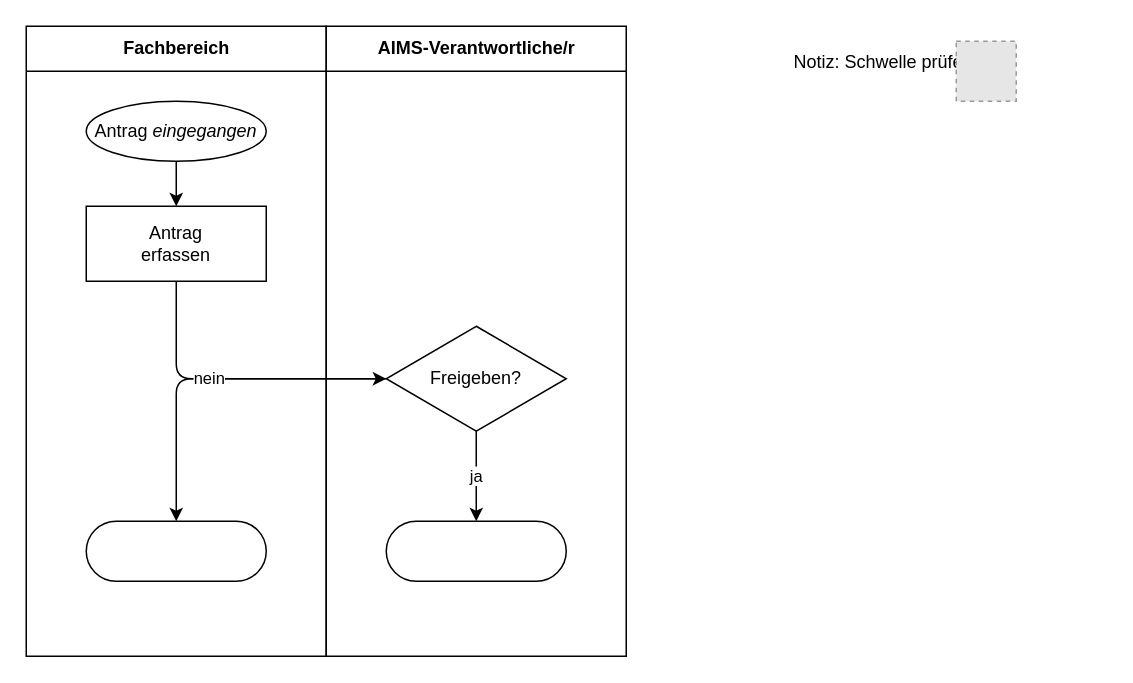
Image size: 1133x683. Some labels were removed from this diagram. Grey dashed boxes stand in for pictures. The box of each missing label's shape, as (x1, y1, x2, y2) in pixels:
Abgelehnt: (85, 520, 266, 581)
Freigegeben: (385, 520, 566, 581)
